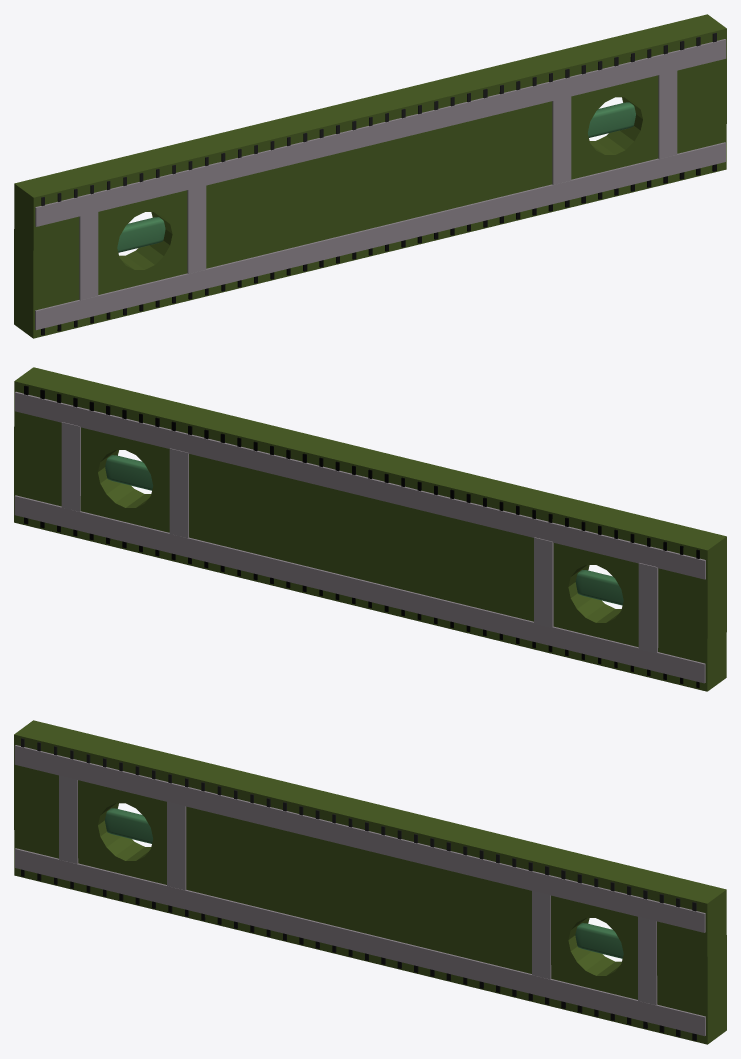
Rendered from UROVEN.fbx.
3 views of the same model, one above another, from view 1: azimuth 30°, elevation 25°; view 2: azimuth 150°, elevation 25°; view 3: azimuth 330°, elevation 25° (orthographic).
Parts seen in each view (by area): view 1: uroven; view 2: uroven; view 3: uroven.
Boxes of the visible parts, box(x1,y1,x2,y2) form: uroven: box(14, 14, 726, 338); uroven: box(14, 367, 726, 691); uroven: box(14, 720, 726, 1044).
Size of the model in its own units: 666 by 130 by 36.28.
